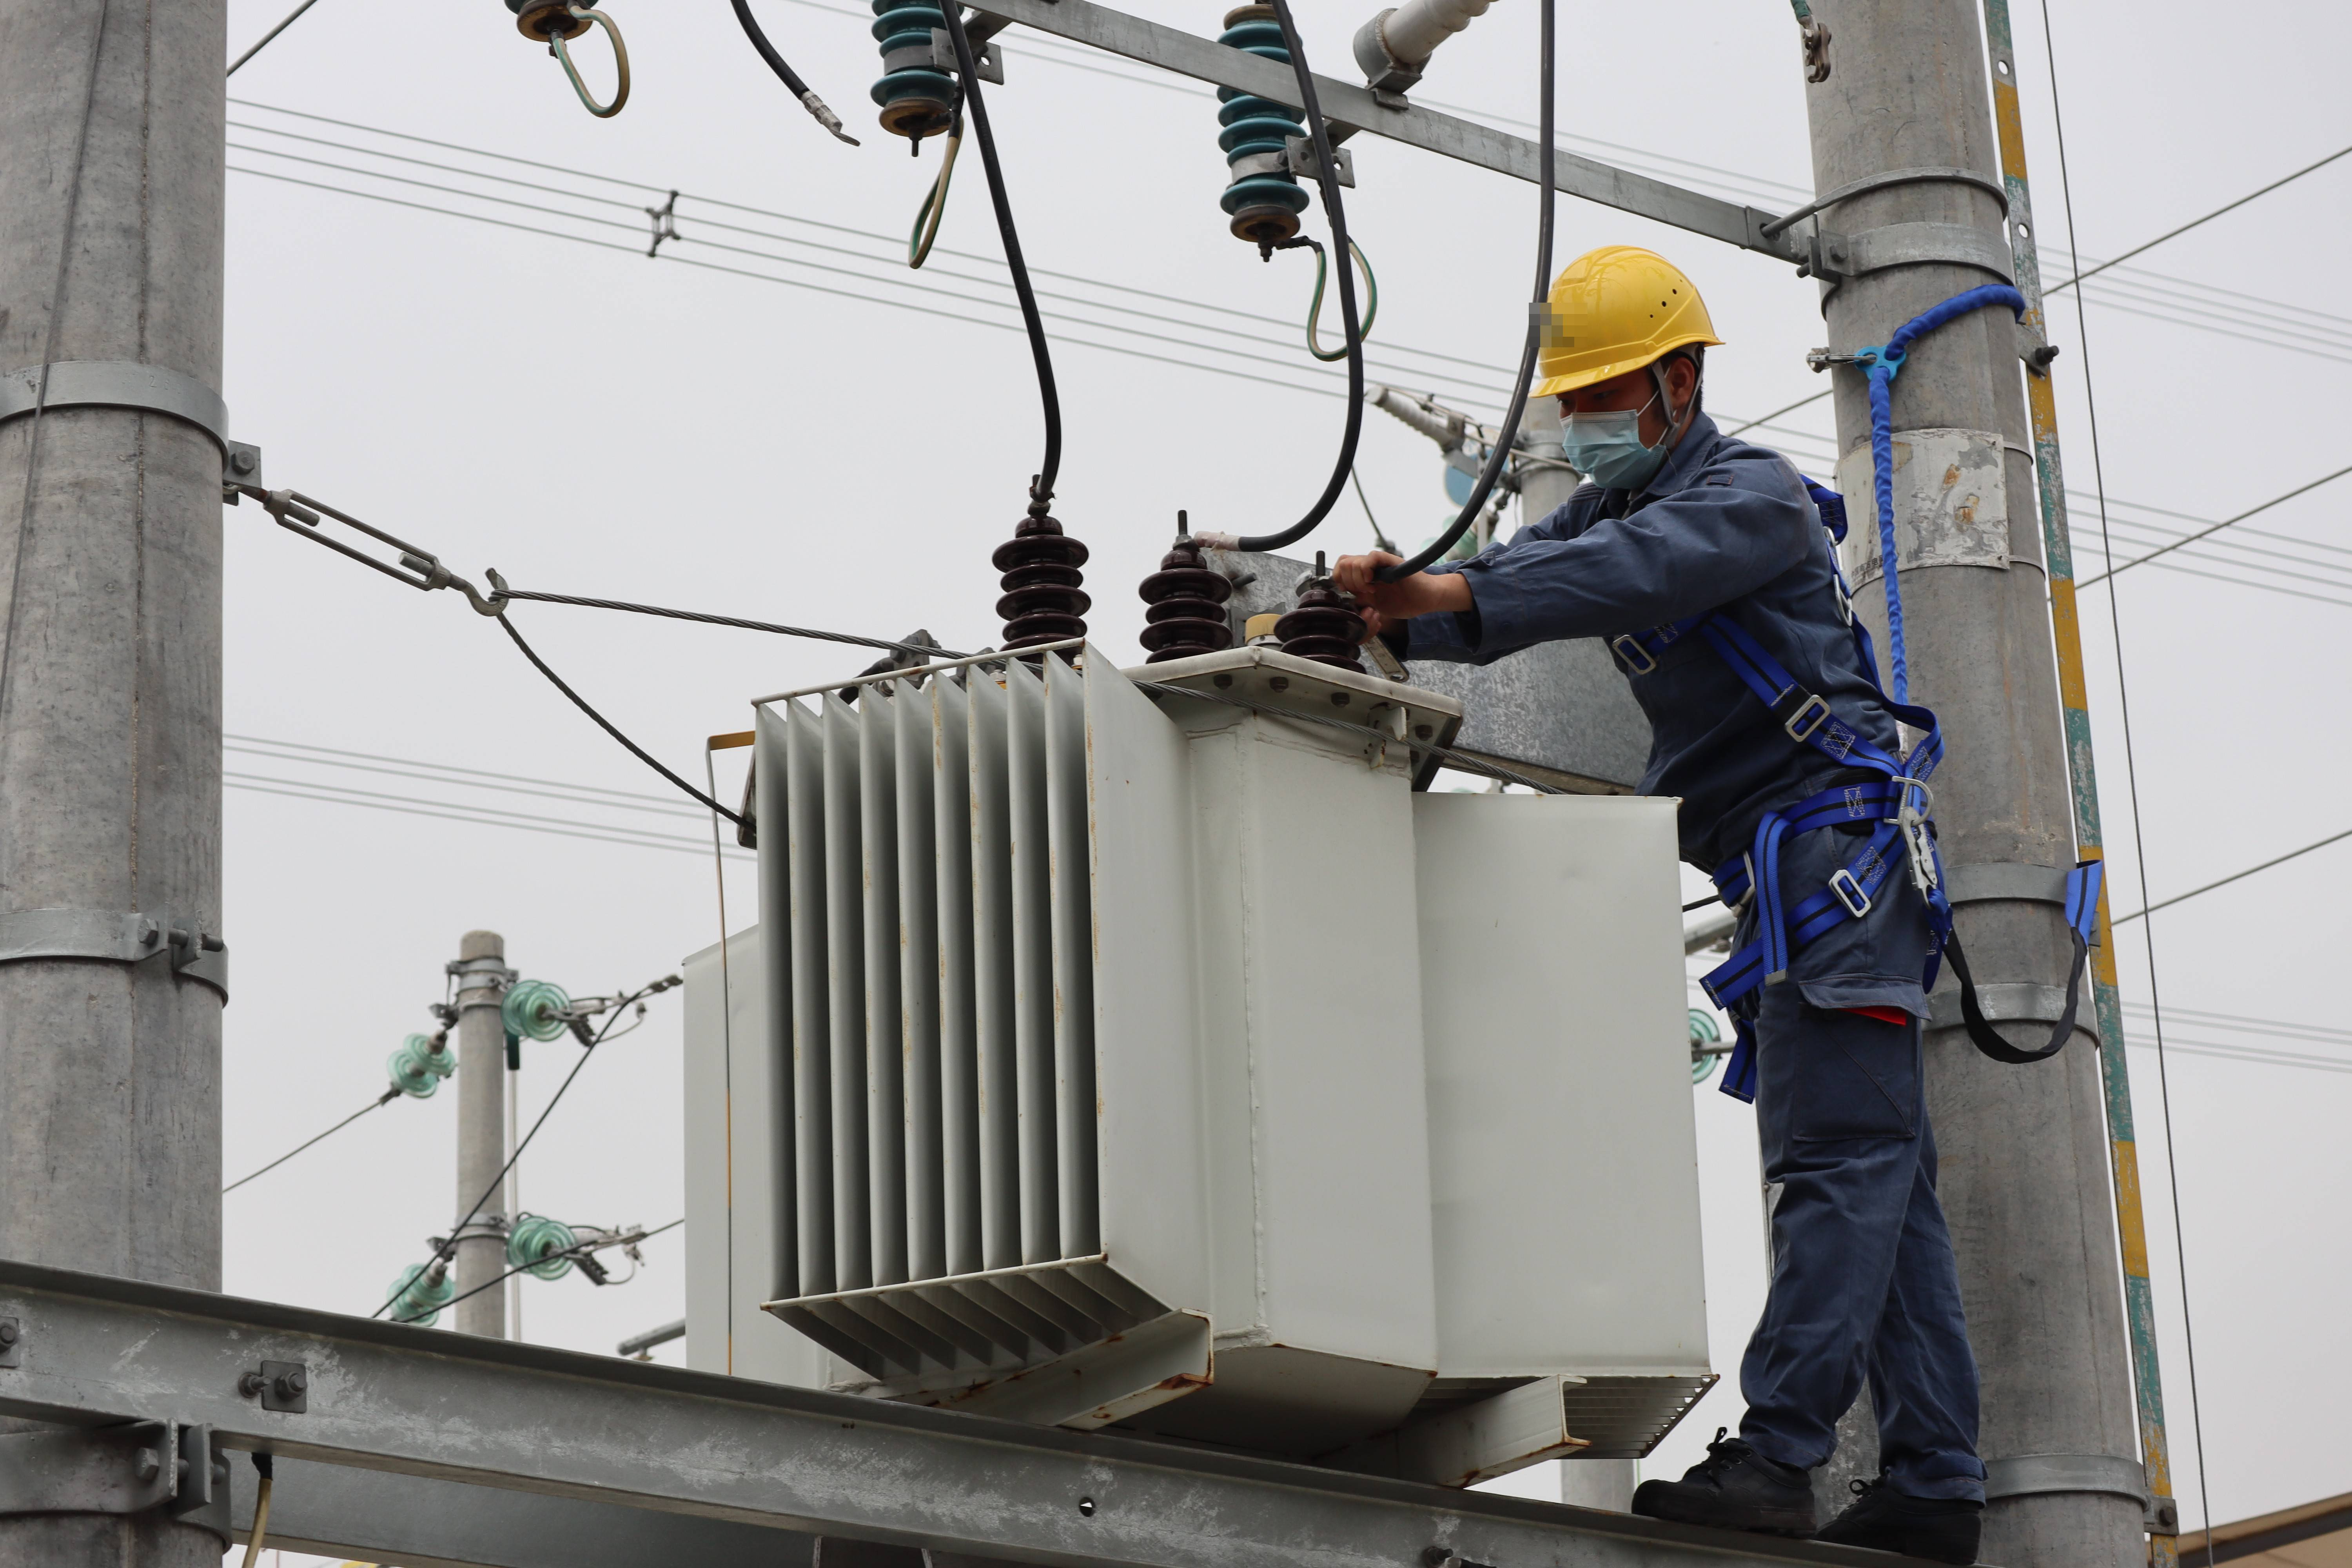downsuit: (1726, 807, 1983, 1498)
upsuit: (1404, 409, 1922, 801)
